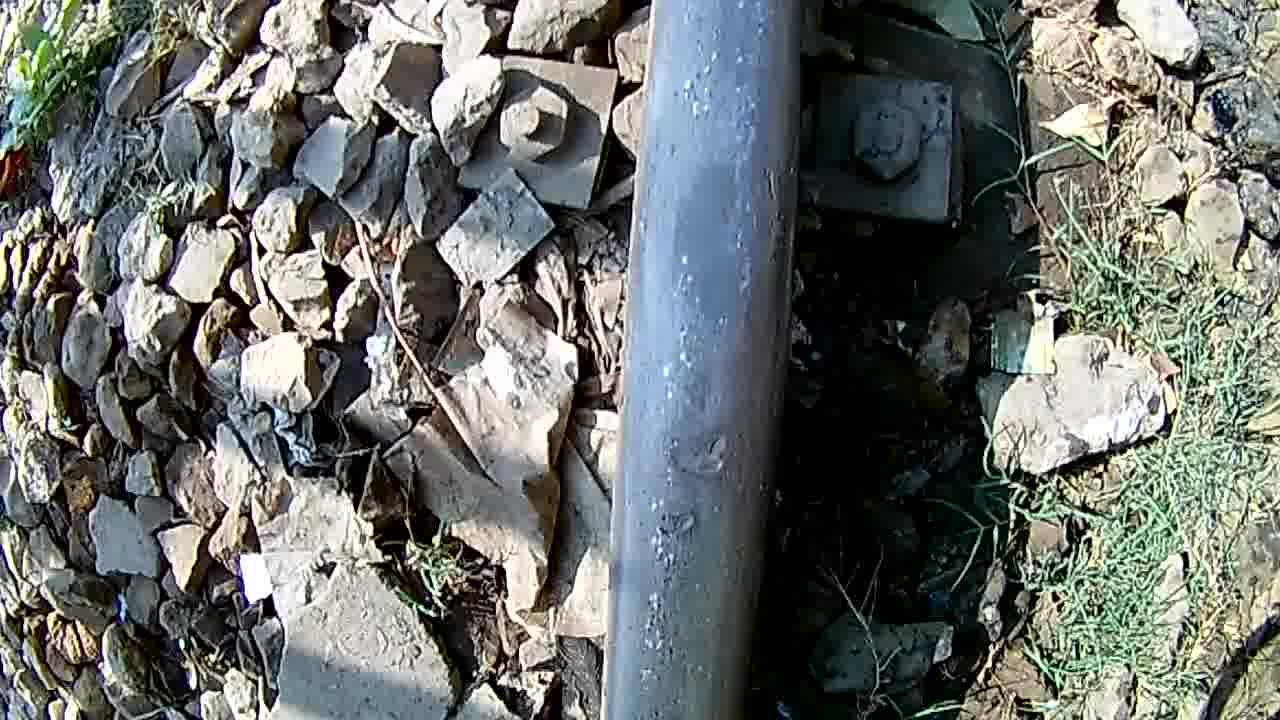bolt_missing: (620, 158, 797, 702)
